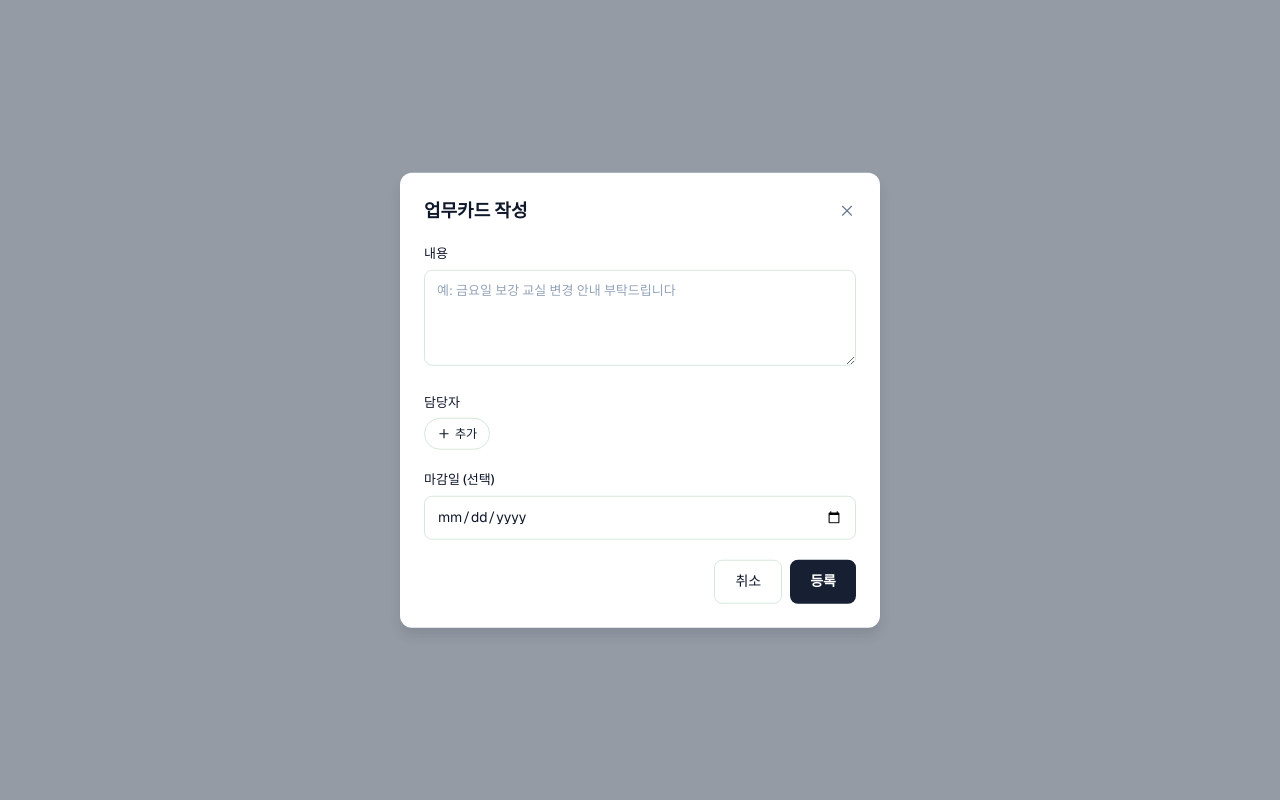
TaskCreateModal › 담당자를 선택하면 칩으로 추가되고 드롭다운이 닫힌다
This screenshot has width=1280, height=800.
Click the button "추가". click: (457, 434)
box: [424,418,490,450]
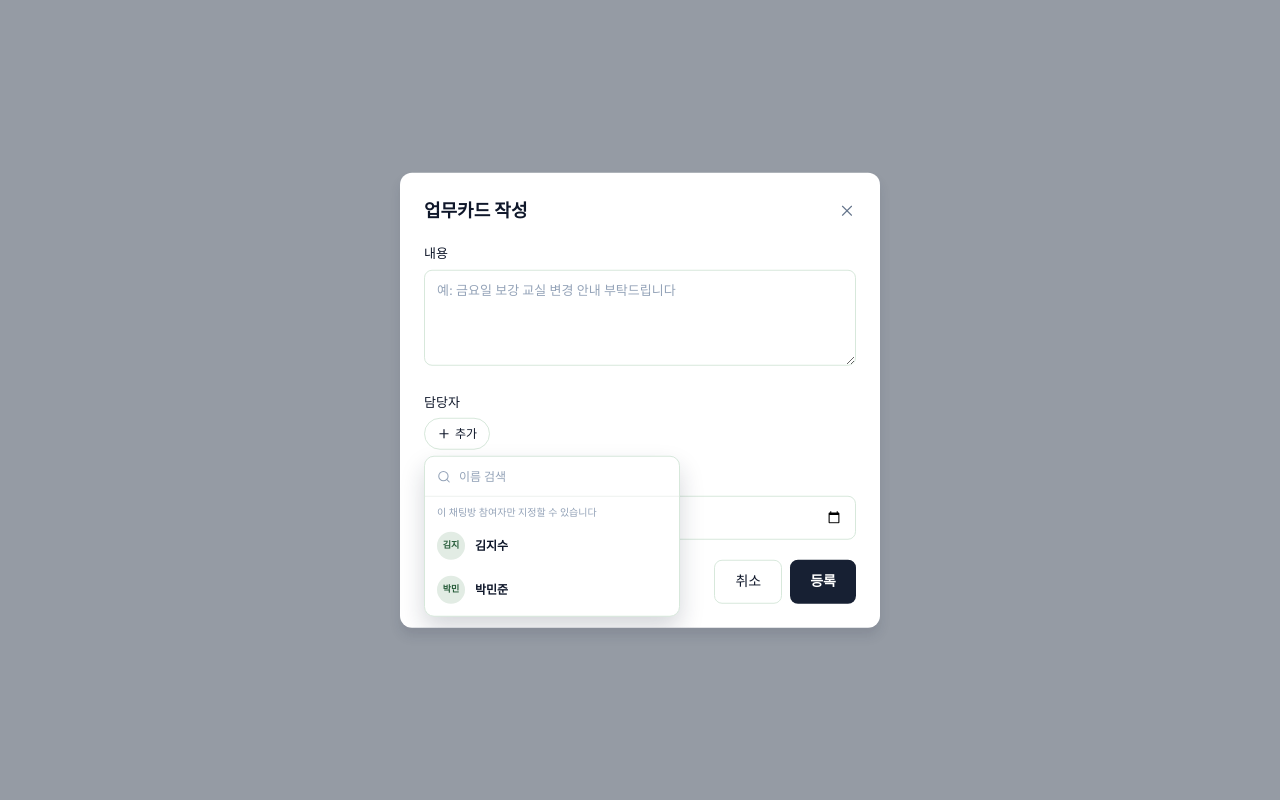
Click the text "김지수". click: (492, 546)
box: [475,538,508,554]
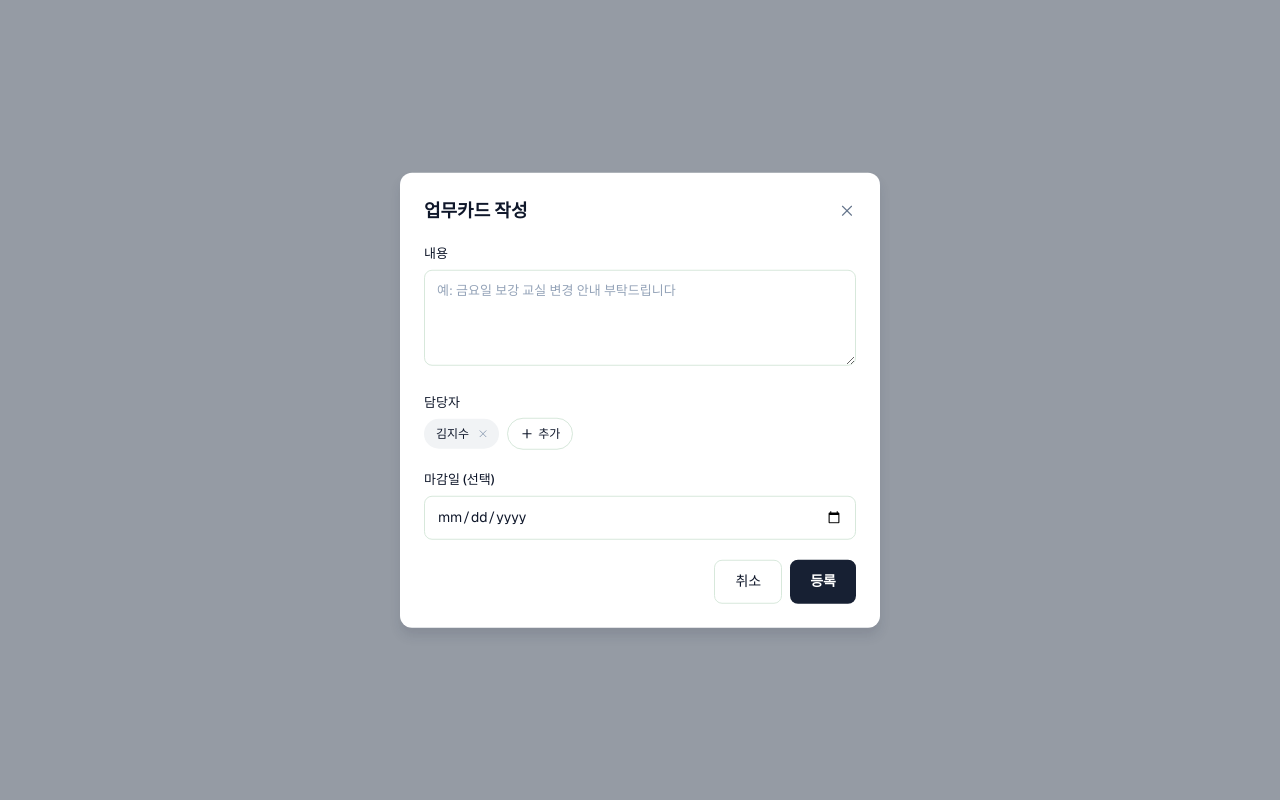
expect the button named "김지수 담당자 제거" is shown: met, box [475,426,491,442]
expect the button "박민준" is gone: met
